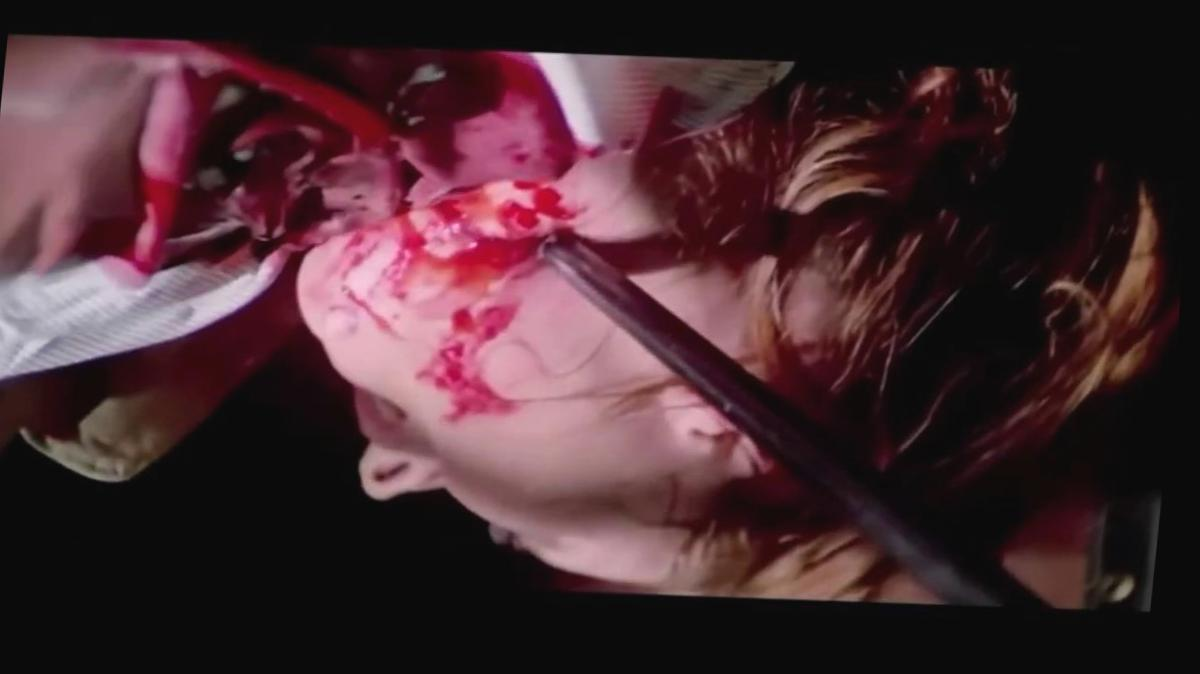Fire: (0, 43, 612, 522)
